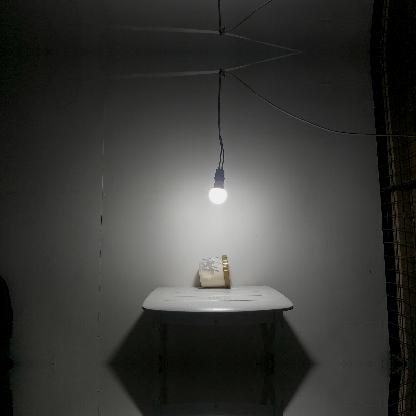Lady-s-Choice: (198, 254, 233, 288)
